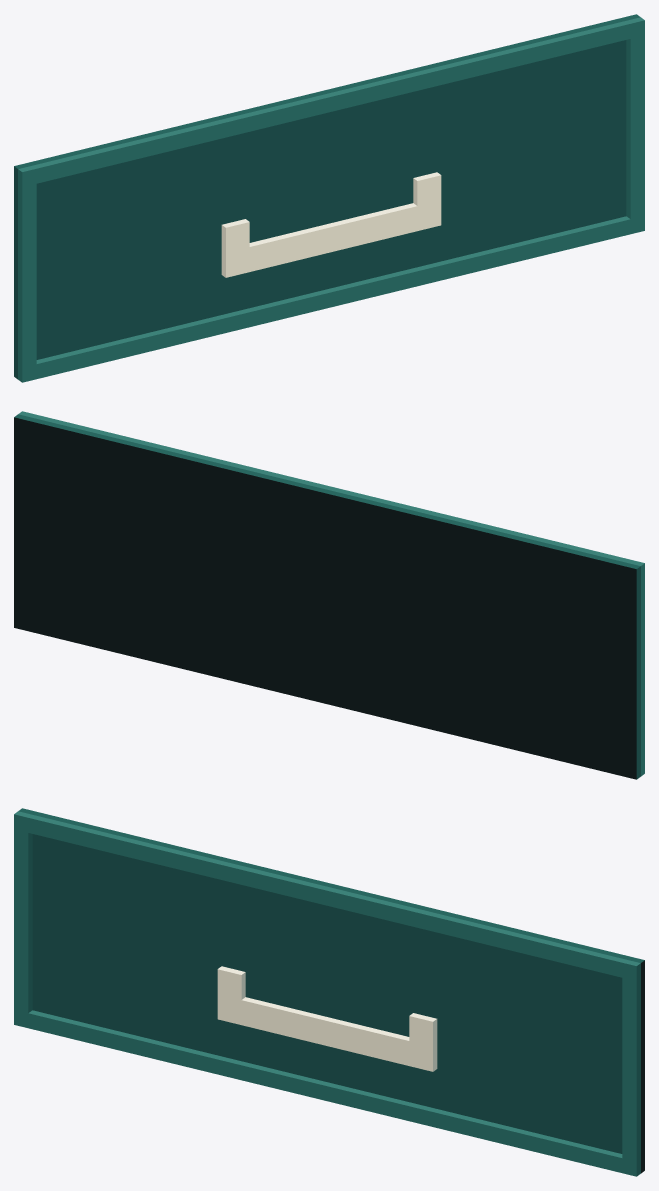
File: Key_Space.gltf
3 views of the same model, one above another, from view 1: azimuth 30°, elevation 25°; view 2: azimuth 150°, elevation 25°; view 3: azimuth 330°, elevation 25° (orthographic).
Parts seen in each view (by area): view 1: Key_Space_baked; view 2: Key_Space_baked; view 3: Key_Space_baked.
Part boxes in pixels (bbox=[...]): Key_Space_baked: bbox=[14, 14, 644, 382]; Key_Space_baked: bbox=[14, 411, 644, 779]; Key_Space_baked: bbox=[14, 808, 644, 1176].
Bounding box in the file's own units: 2.6 × 0.84 × 0.06.
